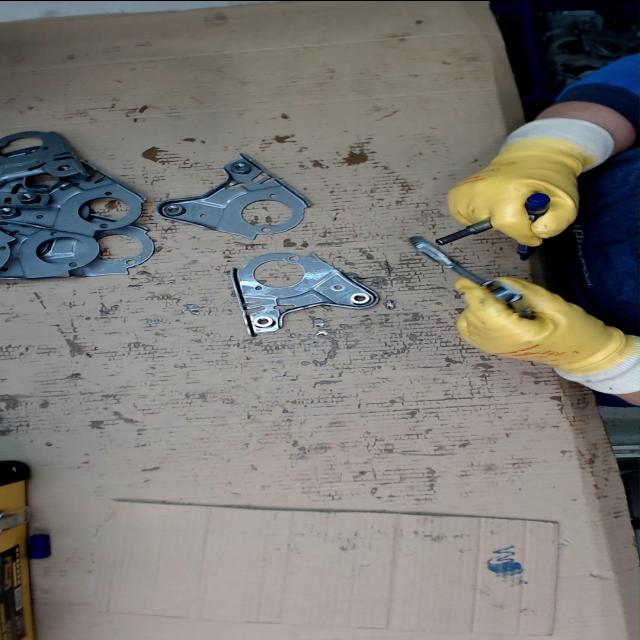hands: (452, 274, 622, 370), (444, 142, 587, 246)
